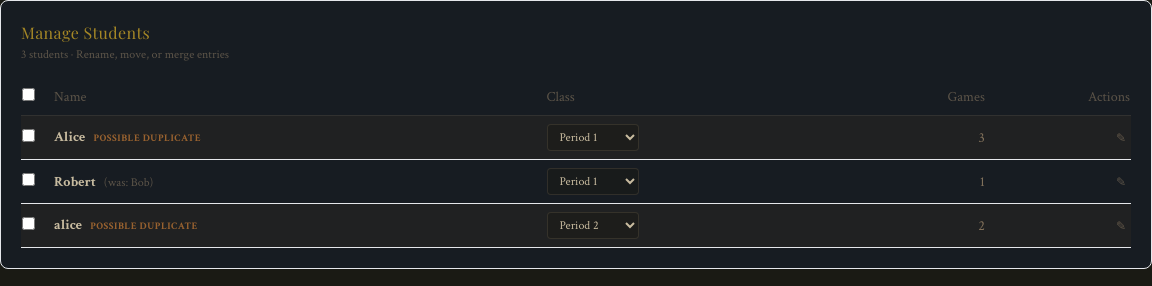
Test: ManageStudents › merge button appears when 2+ students selected
checkboxes[0] is select-all, [1] is Alice, [2] is Robert, [3] is alice
Click the checkbox named "Select Alice" at (28, 135), box 22,128 -> 35,142
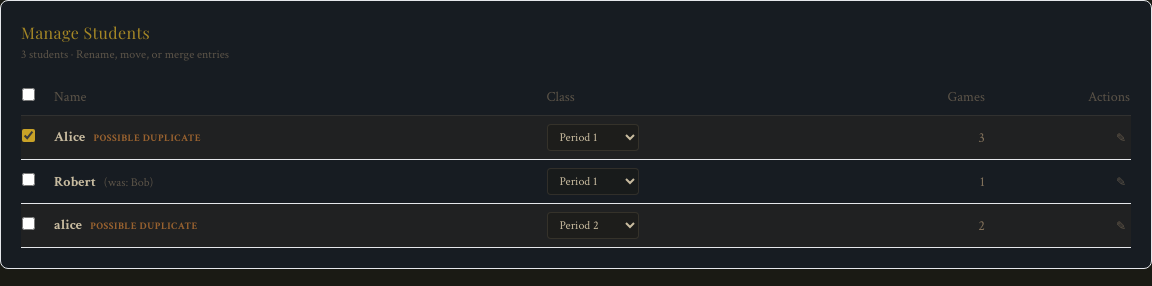
Click the checkbox named "Select Robert" at (28, 179), box 22,172 -> 35,186
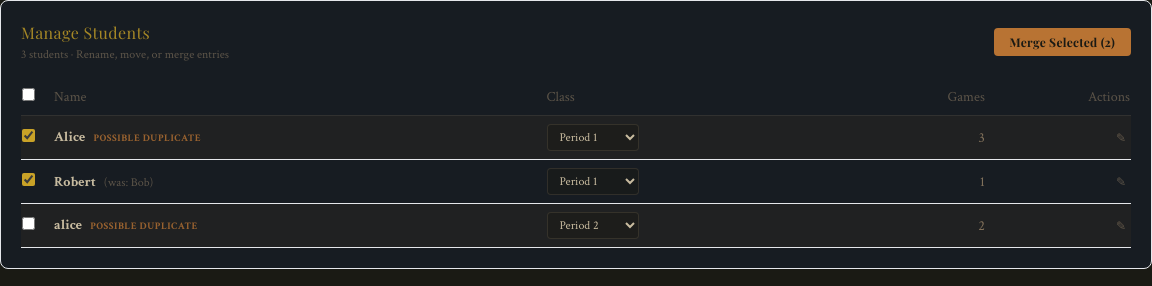
Expected: the button "Merge Selected (2)" is shown, 994,28 -> 1131,56
